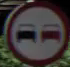No overtake: (4, 7, 64, 54)
